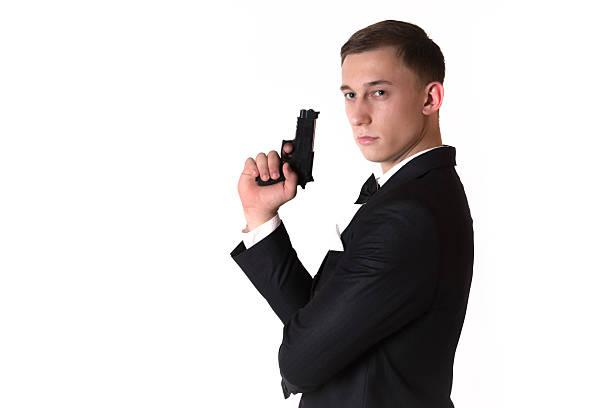weapon: (254, 104, 318, 192)
